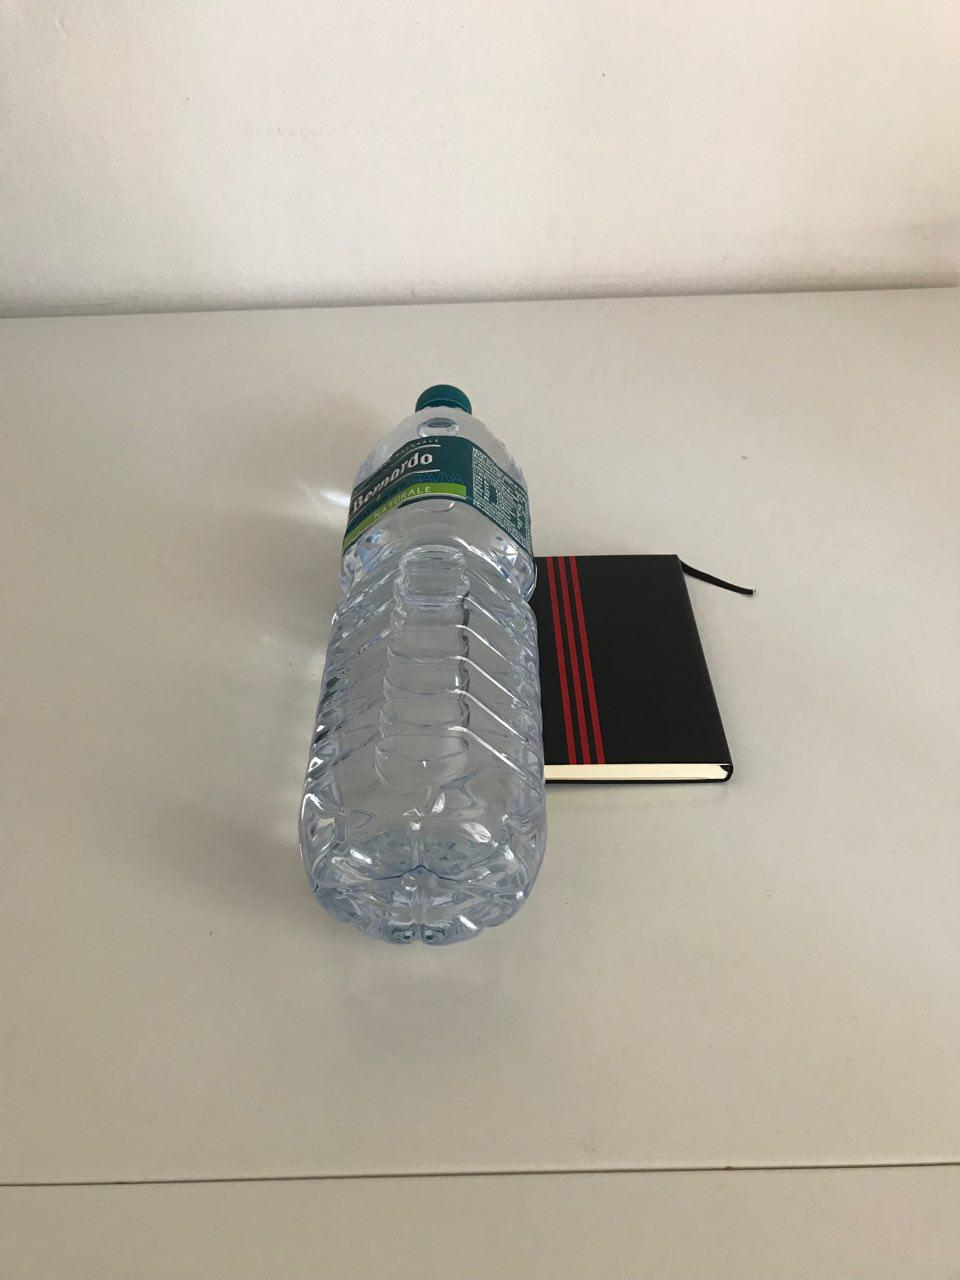san_bernardo: (295, 382, 550, 949)
